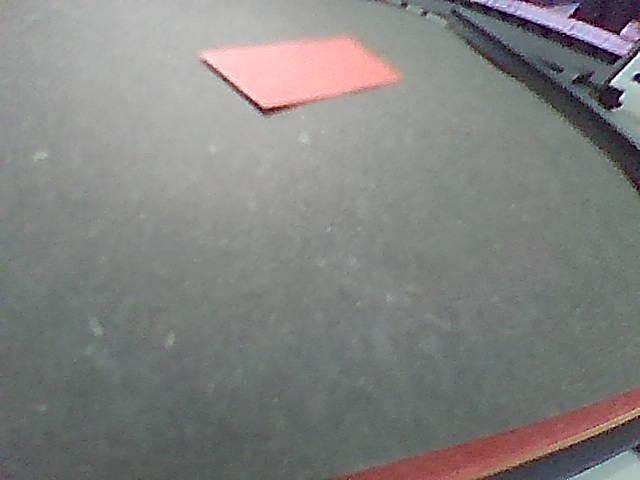card: (201, 37, 399, 110)
